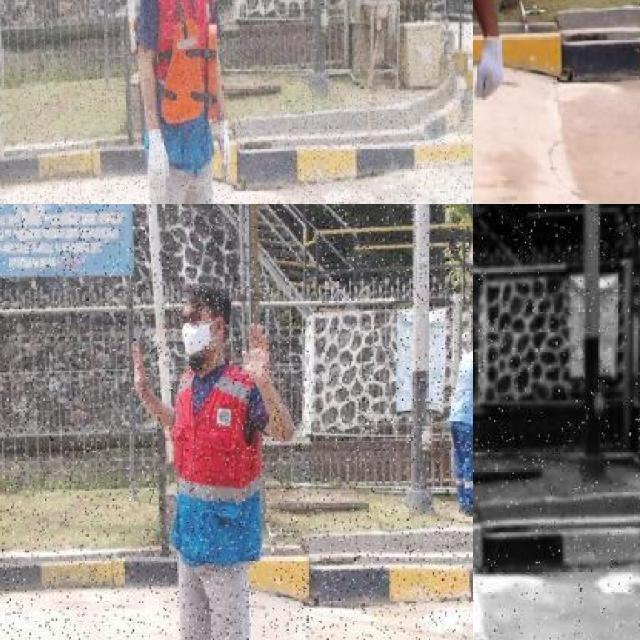apron: (473, 29, 507, 106), (146, 126, 172, 201), (216, 118, 232, 184)
